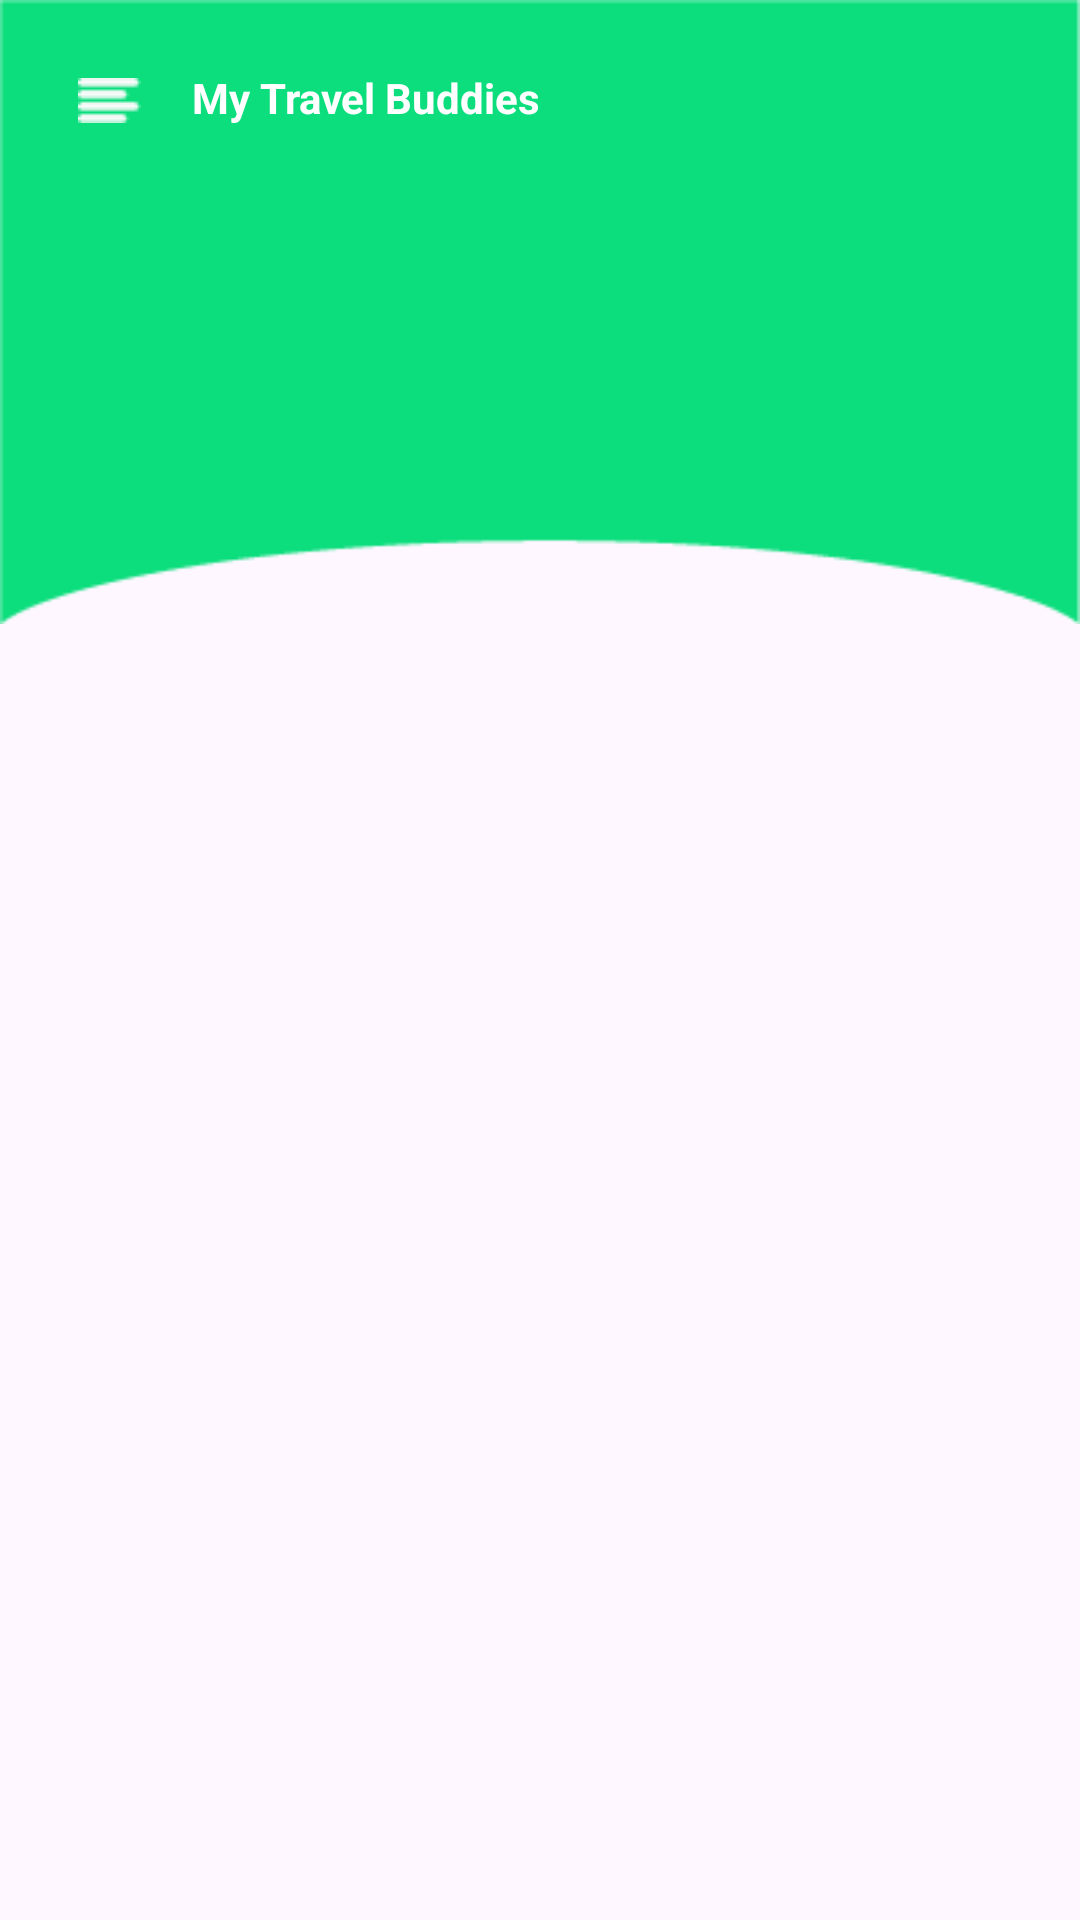

Locate icon controls on the screen. Image size 1080 × 1920, boxes as (x1, y1, x2, y2).
menu: (78, 78, 141, 123)
